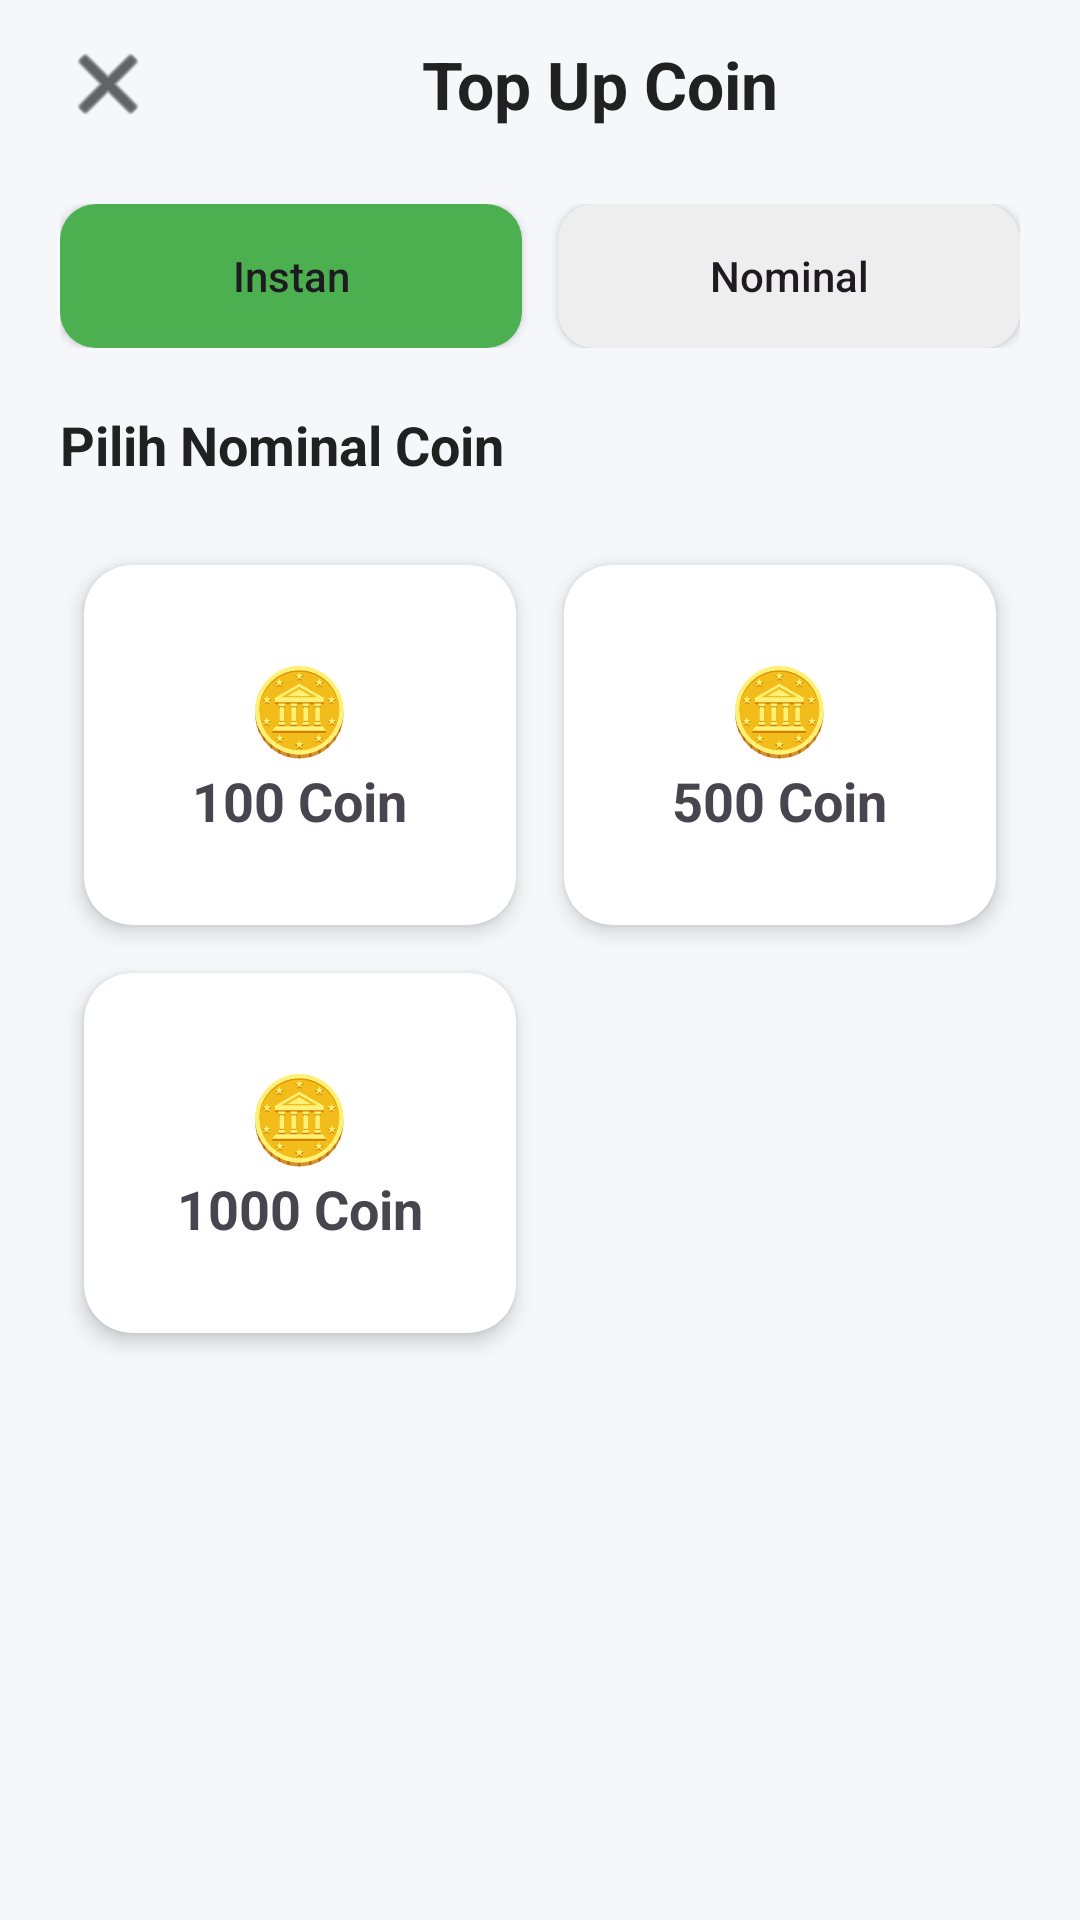

Where to tap for icons on this 1080px×1920px app screen, as [x,y]:
Back: [108,84]
